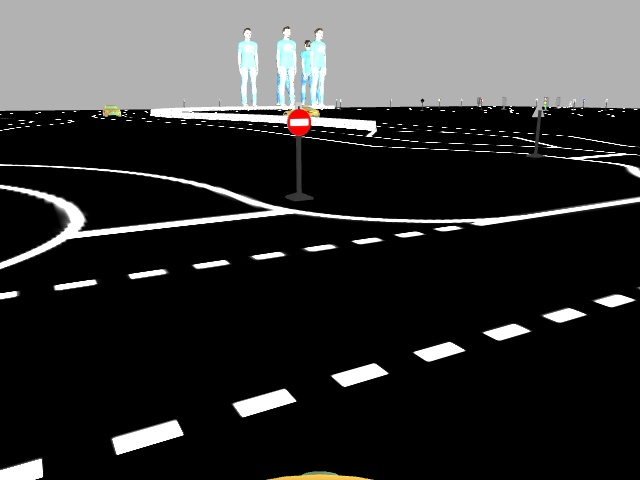NoEntry: (285, 109, 311, 137)
